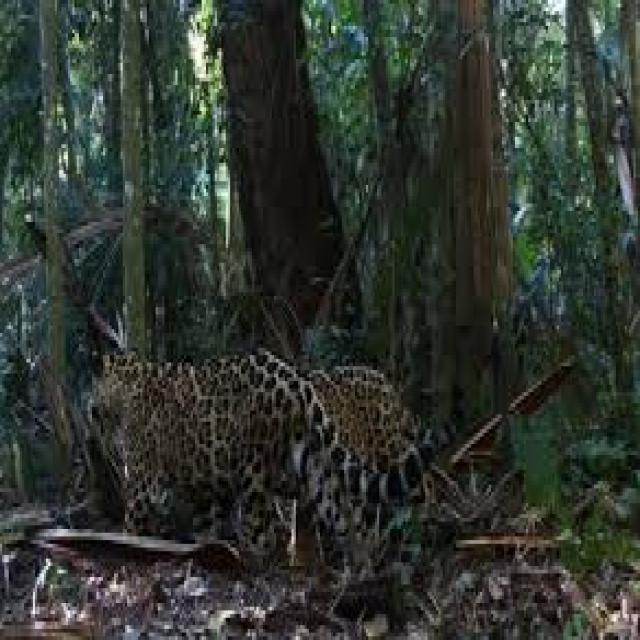Jaguar: (90, 340, 331, 544), (300, 359, 414, 466)
